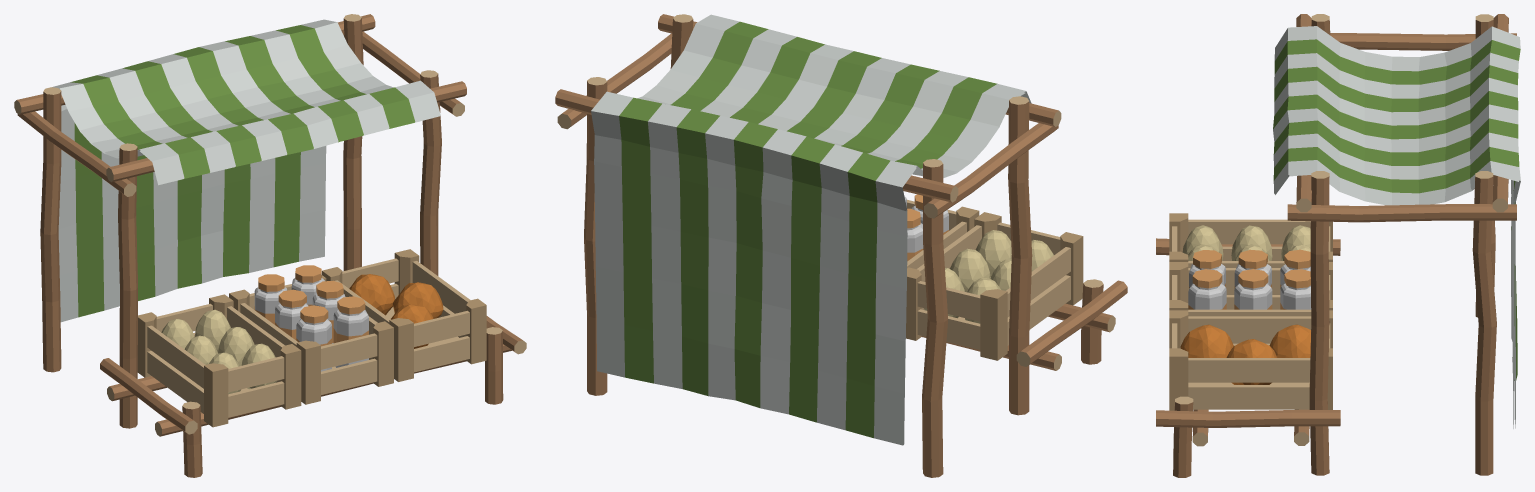
The model's file is Stall06.fbx.
3 views of the same model, side by side, from view 1: azimuth 30°, elevation 25°; view 2: azimuth 150°, elevation 25°; view 3: azimuth 270°, elevation 25° (orthographic). The views are drawn at different scales.
Visible parts, largest first — view 1: Stall06; view 2: Stall06; view 3: Stall06.
Boxes of the visible parts, box(x1,y1,x2,y2) form: Stall06: box(14, 14, 526, 477); Stall06: box(555, 14, 1127, 477); Stall06: box(1156, 14, 1520, 477).
Bounding box in the file's own units: 4 × 3.02 × 3.34.
